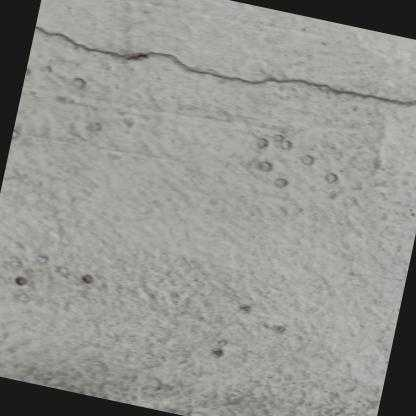crack: (33, 25, 416, 106)
